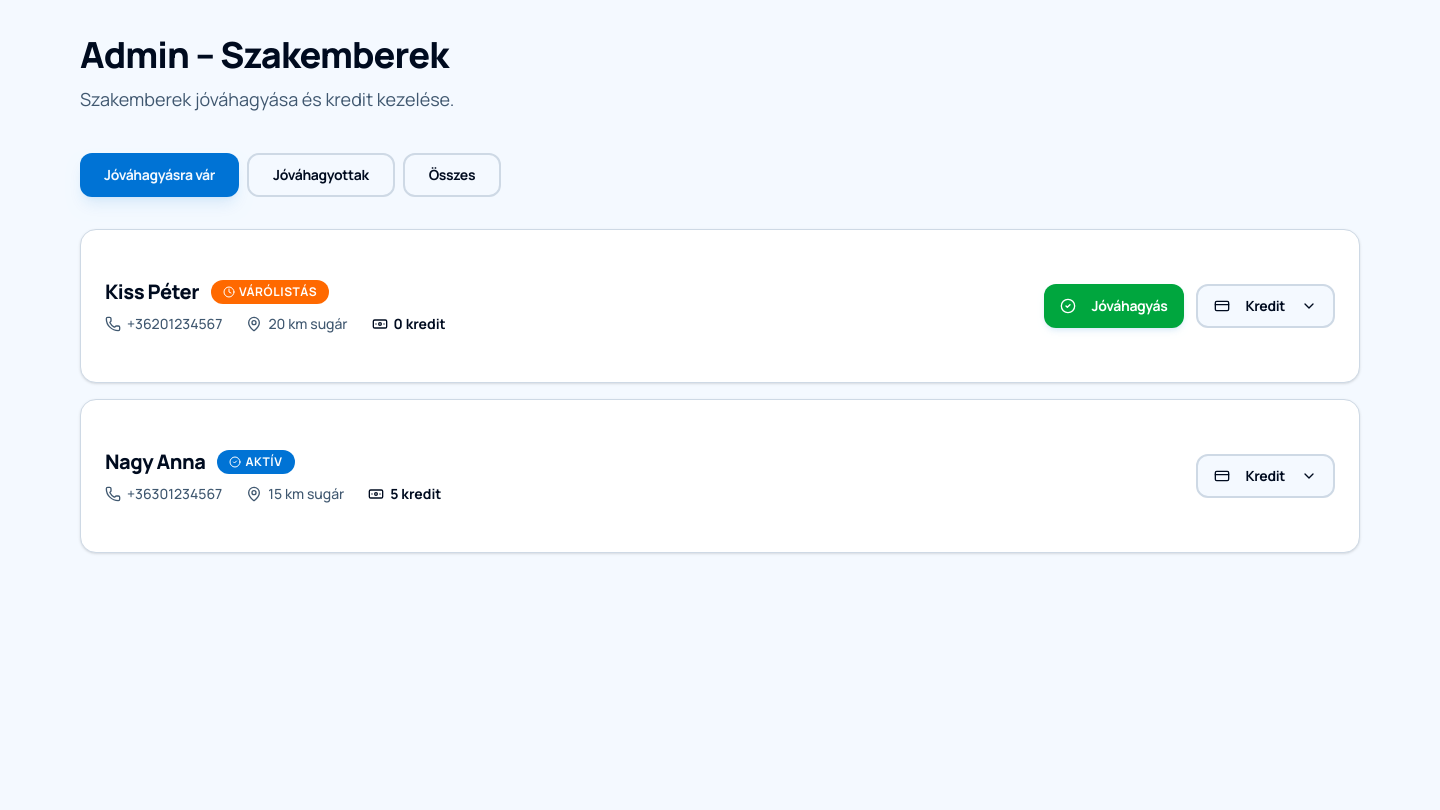
Scenario: AdminPage – credit form › opens credit form when Kredit button clicked
Click the button "Kredit" in the row of "Várólistás": (1265, 306) [1196,284,1335,328]
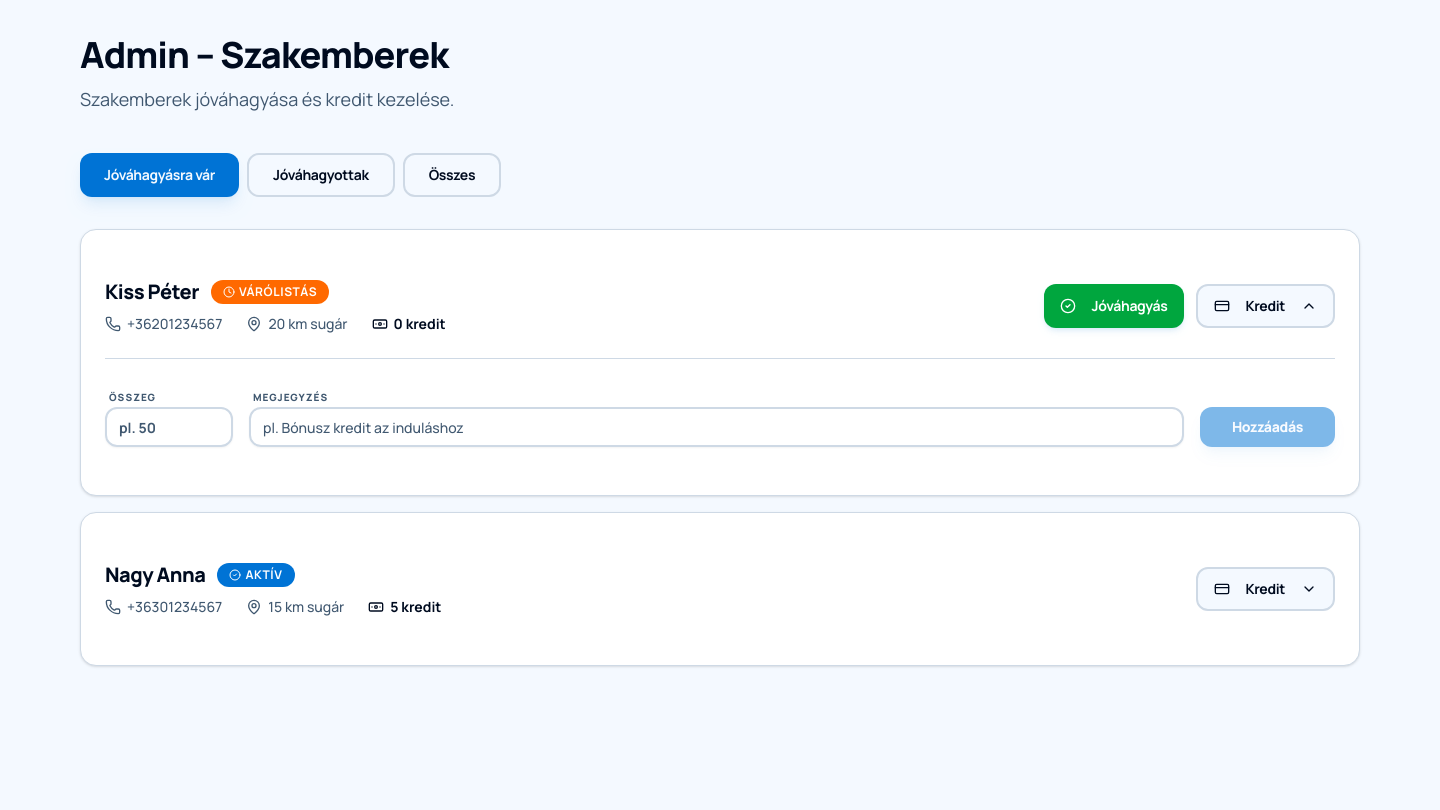
Expected: the number field with placeholder "pl. 50" is shown, [105,407,233,447]
